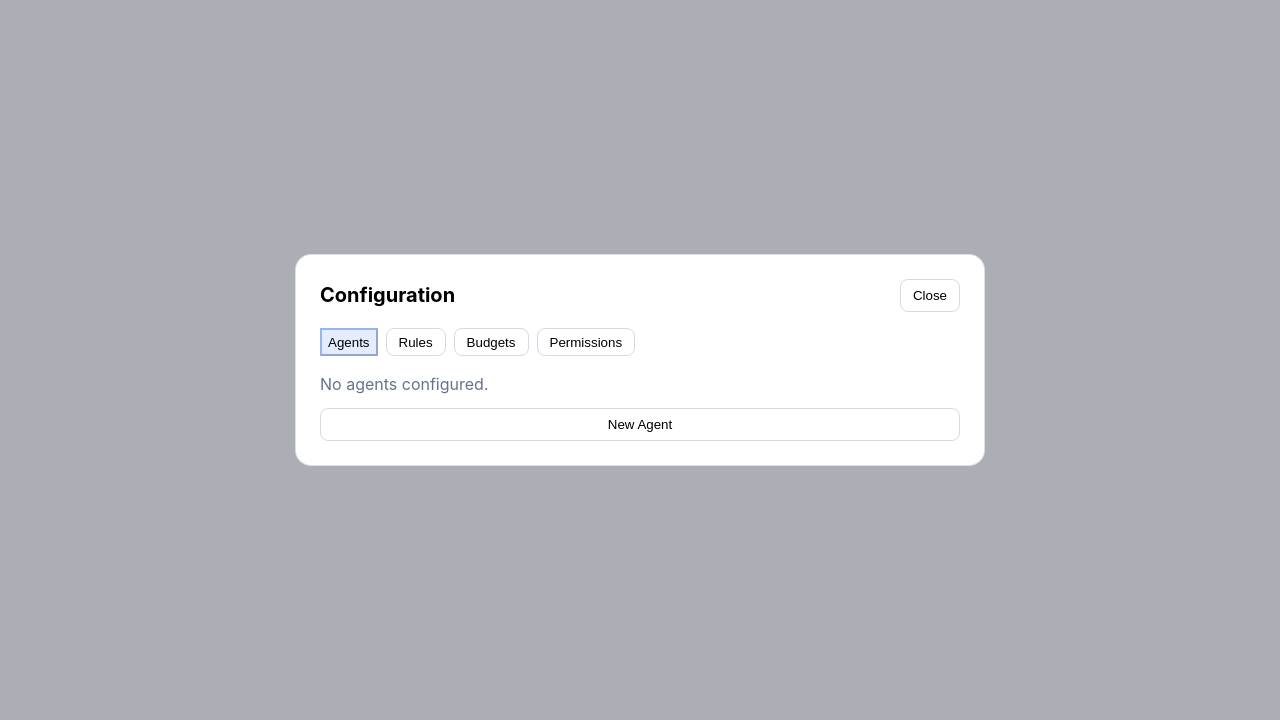
Test: ConfigurationDialog › switches to the rules tab
This screenshot has width=1280, height=720.
Click the button with test id "rules-tab".
click(416, 342)  # box [386, 328, 446, 356]
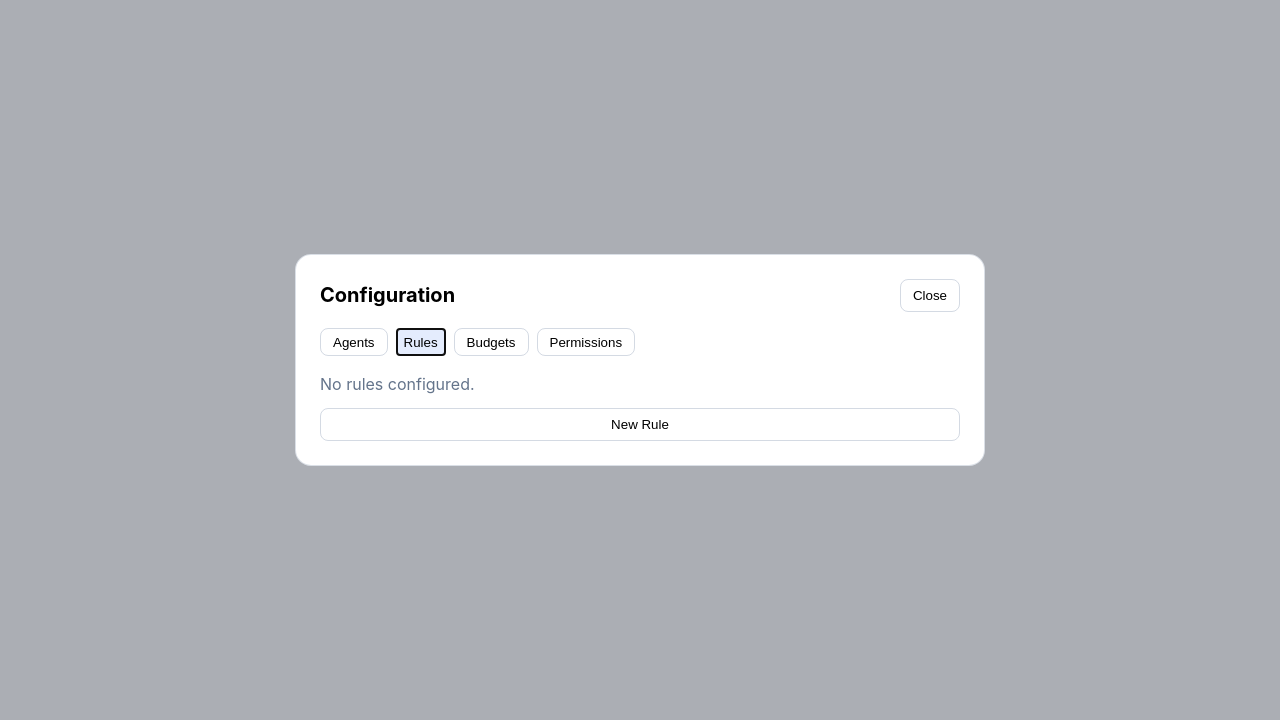
Expected: the element with test id "rules-section" is shown, [320, 372, 960, 441]
Expected: the text "No rules configured." is shown, [320, 374, 474, 394]
